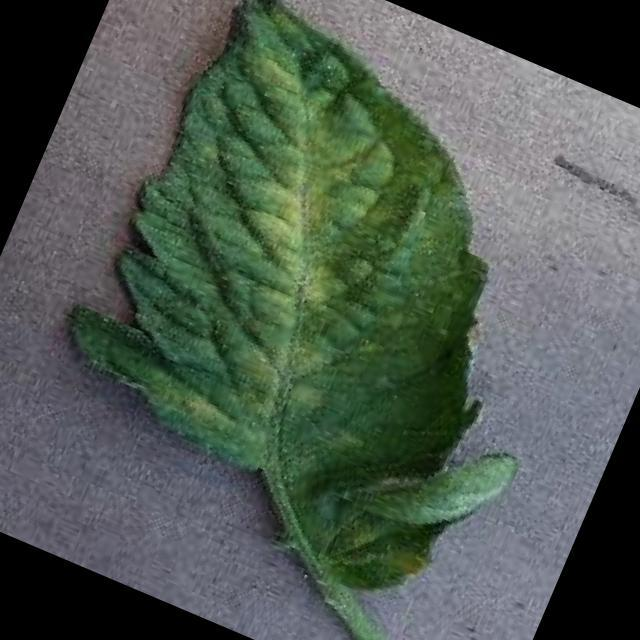Tomato mold leaf: (10, 0, 640, 627)
